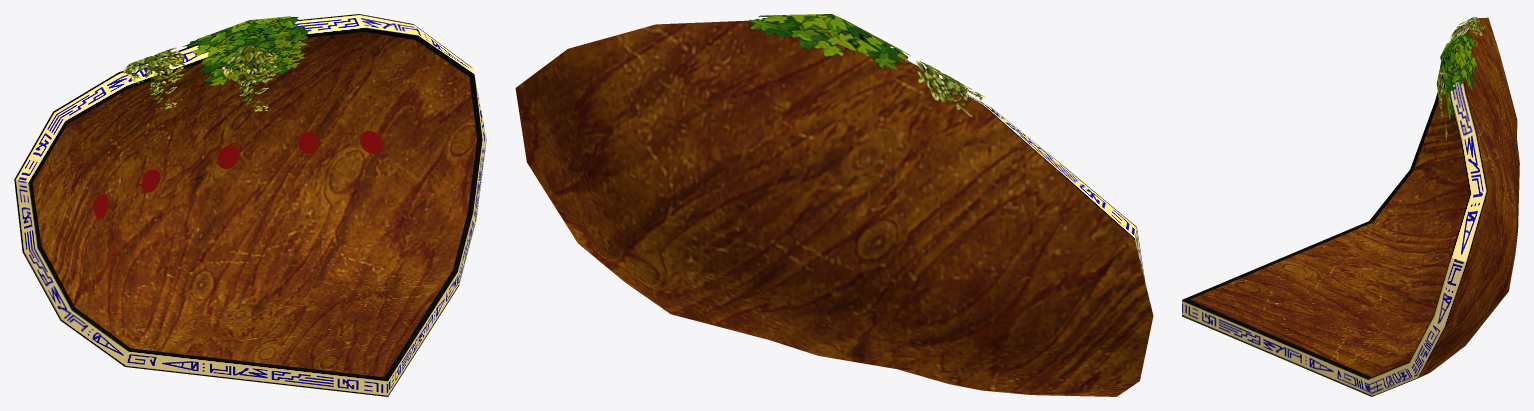
Rendered from jungle_concave_halfcorner.gltf.
3 views of the same model, side by side, from view 1: azimuth 30°, elevation 25°; view 2: azimuth 150°, elevation 25°; view 3: azimuth 270°, elevation 25° (orthographic). The views are drawn at different scales.
Visible parts, largest first — view 1: jungle_concave_halfcorner_glb; view 2: jungle_concave_halfcorner_glb; view 3: jungle_concave_halfcorner_glb.
Boxes of the visible parts, x1,y1,x2,y2 form: jungle_concave_halfcorner_glb: [14, 14, 486, 396]; jungle_concave_halfcorner_glb: [515, 14, 1153, 396]; jungle_concave_halfcorner_glb: [1182, 17, 1519, 396].
Size of what is drawn, in the model's own units: 6.96 by 3.93 by 4.46.
2 materials, 2 textured.
